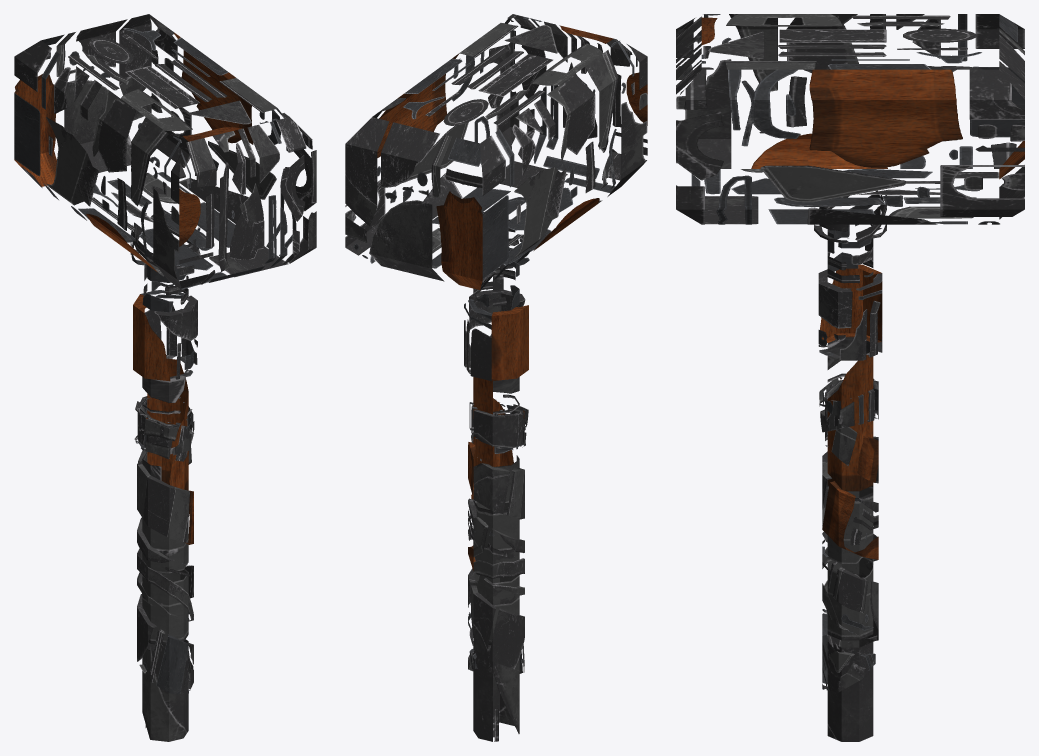
The model's file is Hummer.fbx.
3 renders of one model, left to right at view 1: azimuth 30°, elevation 25°; view 2: azimuth 150°, elevation 25°; view 3: azimuth 270°, elevation 25°, orthographic. The views are drawn at different scales.
Parts seen in each view (by area): view 1: Cube.001, Cube; view 2: Cube.001, Cube; view 3: Cube.001, Cube.
Part boxes in pixels (<box>): Cube.001: <box>14,14,316,289</box>; Cube: <box>130,211,200,741</box>; Cube.001: <box>345,14,647,289</box>; Cube: <box>464,212,529,741</box>; Cube.001: <box>676,14,1024,224</box>; Cube: <box>814,190,886,741</box>.
Bounding box in the file's own units: 16.67 × 75.9 × 34.76.
